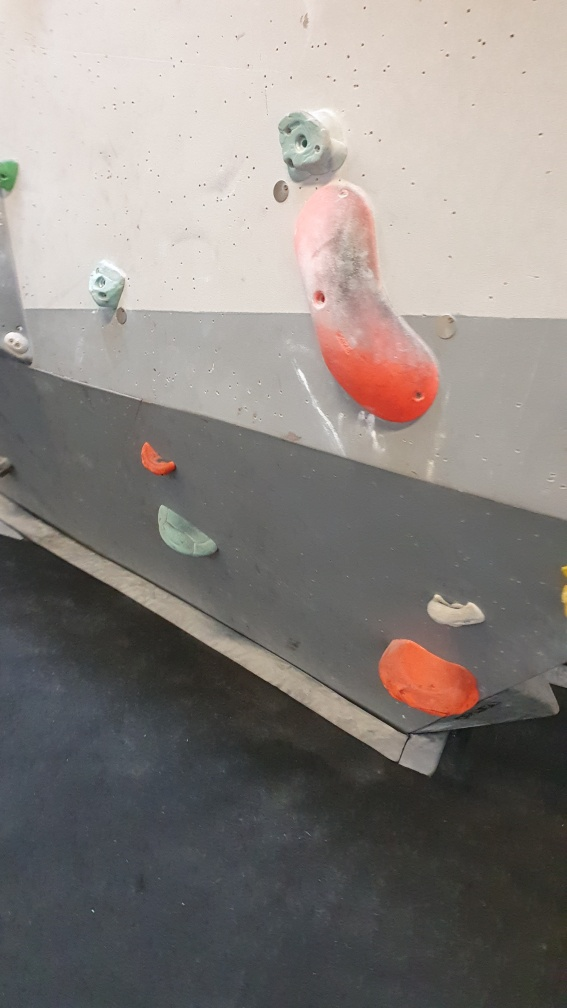Pinch: (285, 177, 438, 431)
